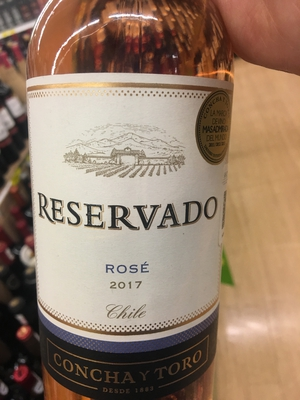reservado rose: (19, 8, 231, 400)
